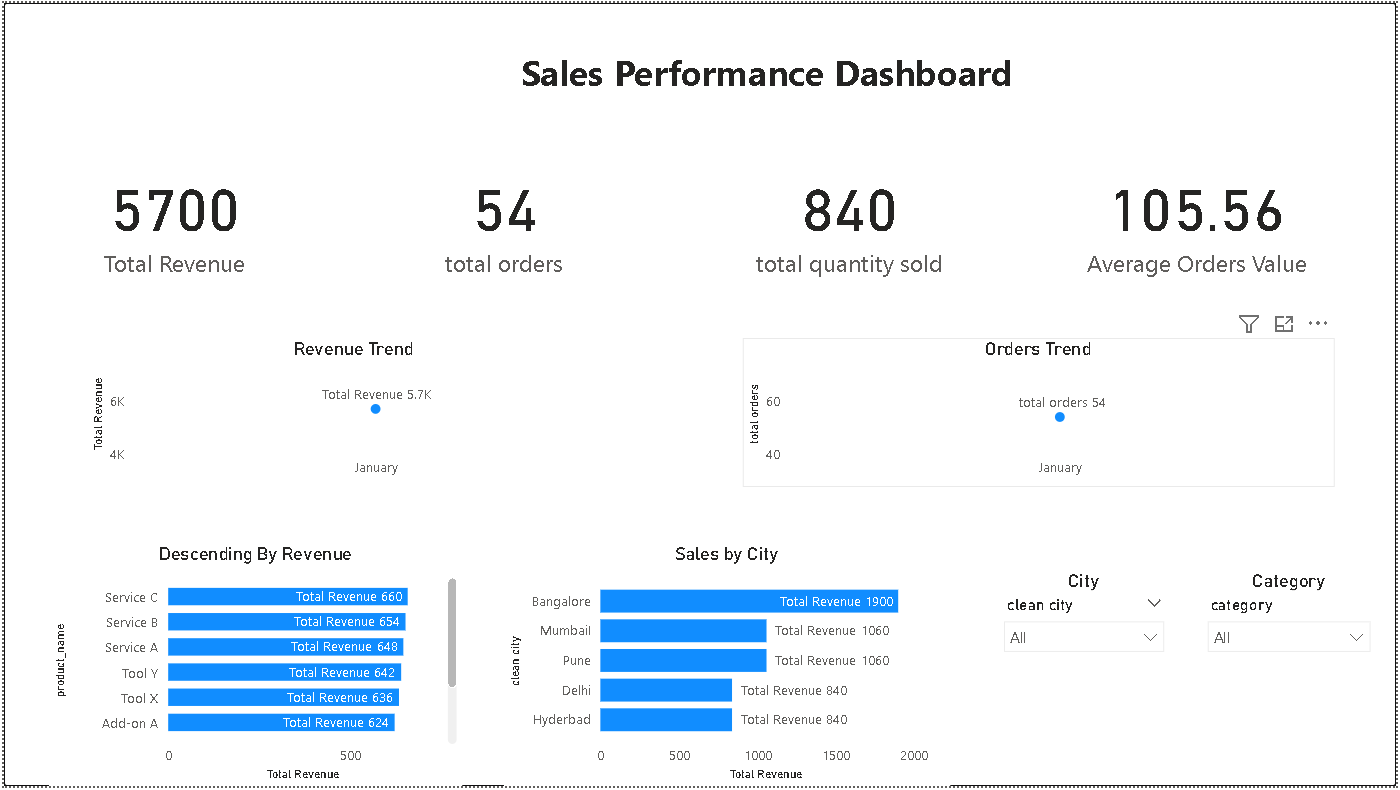

Layout of this report page (visuals, bound fields, positions):
{"tool":"powerbi","page":{"name":"Page 1","canvas":[1280,720],"ordinal":0},"visuals":[{"type":"card","fields":{"Values":["finalll_sales_dataset.Total Revenue"]},"box":[41.2,140,231.2,117.5],"z":0},{"type":"card","fields":{"Values":["finalll_sales_dataset.total orders"]},"box":[352.5,140,215,117.5],"z":1000},{"type":"card","fields":{"Values":["finalll_sales_dataset.total quantity sold"]},"box":[665,140,225,117.5],"z":2000},{"type":"card","fields":{"Values":["finalll_sales_dataset.Average Orders Value"]},"box":[986.2,140,221.2,117.5],"z":3000},{"type":"lineChart","title":"Revenue Trend ","fields":{"Category":["finalll_sales_dataset.order_date.Variation.Date Hierarchy.Month"],"Y":["finalll_sales_dataset.Total Revenue"]},"box":[76.2,307.5,491.2,137.5],"z":4000},{"type":"lineChart","title":"Orders Trend ","fields":{"Category":["finalll_sales_dataset.order_date.Variation.Date Hierarchy.Month"],"Y":["finalll_sales_dataset.total orders"]},"box":[678.8,307.5,543.8,137.5],"z":5000},{"type":"barChart","title":"Descending By Revenue","fields":{"Category":["finalll_sales_dataset.product_name"],"Y":["finalll_sales_dataset.Total Revenue"]},"box":[41.2,496.2,380,223.8],"z":6000},{"type":"barChart","title":"Sales by City","fields":{"Category":["finalll_sales_dataset.clean city"],"Y":["finalll_sales_dataset.Total Revenue"]},"box":[460,496.2,410,223.8],"z":7000},{"type":"slicer","title":"City","fields":{"Values":["finalll_sales_dataset.clean city"]},"box":[908.8,521.2,167.5,100],"z":8000},{"type":"slicer","title":"Category","fields":{"Values":["finalll_sales_dataset.category"]},"box":[1096.2,521.2,170,87.5],"z":9000},{"type":"textbox","box":[435,36.2,533.8,45],"z":10000}]}

Visuals, with their boxes in screenshot pixels (x1, y1, x2, y2), scaled from the page's 1280x720 canvas onto the 1400x790 screenshot:
card - finalll_sales_dataset.Total Revenue: <bbox>45, 154, 298, 283</bbox>
card - finalll_sales_dataset.total orders: <bbox>386, 154, 621, 283</bbox>
card - finalll_sales_dataset.total quantity sold: <bbox>727, 154, 973, 283</bbox>
card - finalll_sales_dataset.Average Orders Value: <bbox>1079, 154, 1321, 283</bbox>
"Revenue Trend " lineChart: <bbox>83, 337, 621, 488</bbox>
"Orders Trend " lineChart: <bbox>742, 337, 1337, 488</bbox>
"Descending By Revenue" barChart: <bbox>45, 544, 461, 789</bbox>
"Sales by City" barChart: <bbox>503, 544, 952, 789</bbox>
"City" slicer: <bbox>994, 572, 1177, 682</bbox>
"Category" slicer: <bbox>1199, 572, 1385, 668</bbox>
textbox: <bbox>476, 40, 1060, 89</bbox>
